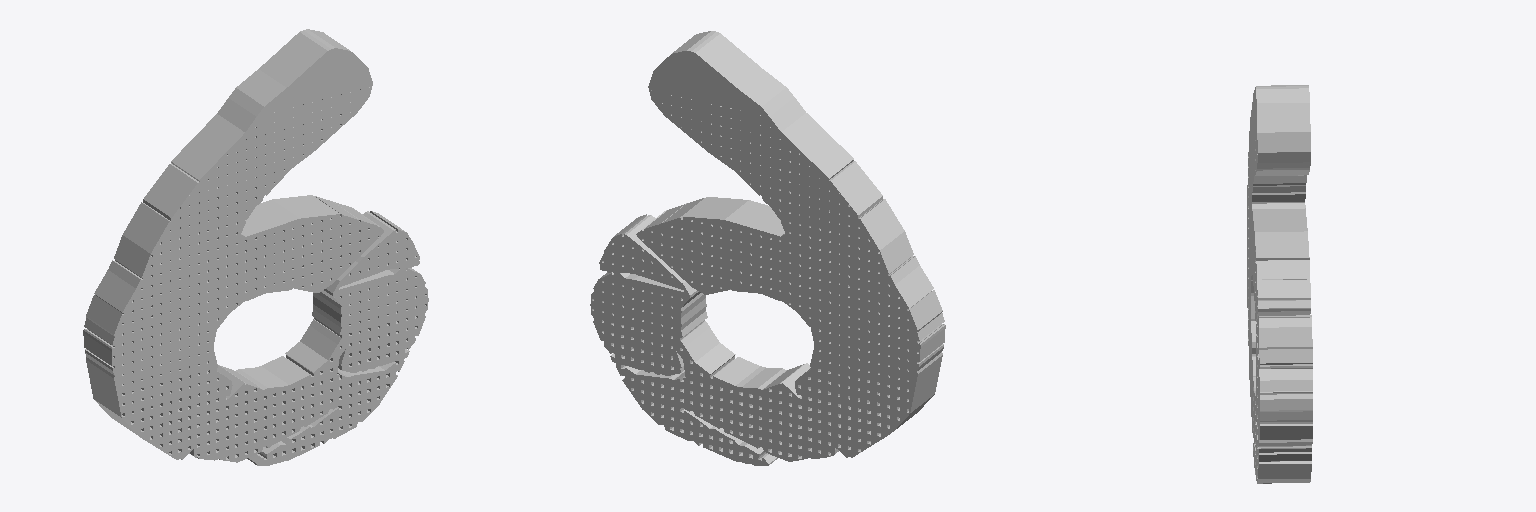
The model's file is 6_naranja.obj.
3 views of the same model, side by side, from view 1: azimuth 30°, elevation 25°; view 2: azimuth 150°, elevation 25°; view 3: azimuth 270°, elevation 25° (orthographic).
Parts seen in each view (by area): view 1: Mesh1 G_6_1 Model; view 2: Mesh1 G_6_1 Model; view 3: Mesh1 G_6_1 Model.
Part boxes in pixels (x1,y1,x2,y2): Mesh1 G_6_1 Model: (83, 29, 428, 465); Mesh1 G_6_1 Model: (590, 31, 945, 465); Mesh1 G_6_1 Model: (1247, 85, 1312, 483).
Bounding box in the file's own units: 70.46 × 82.85 × 12.45.